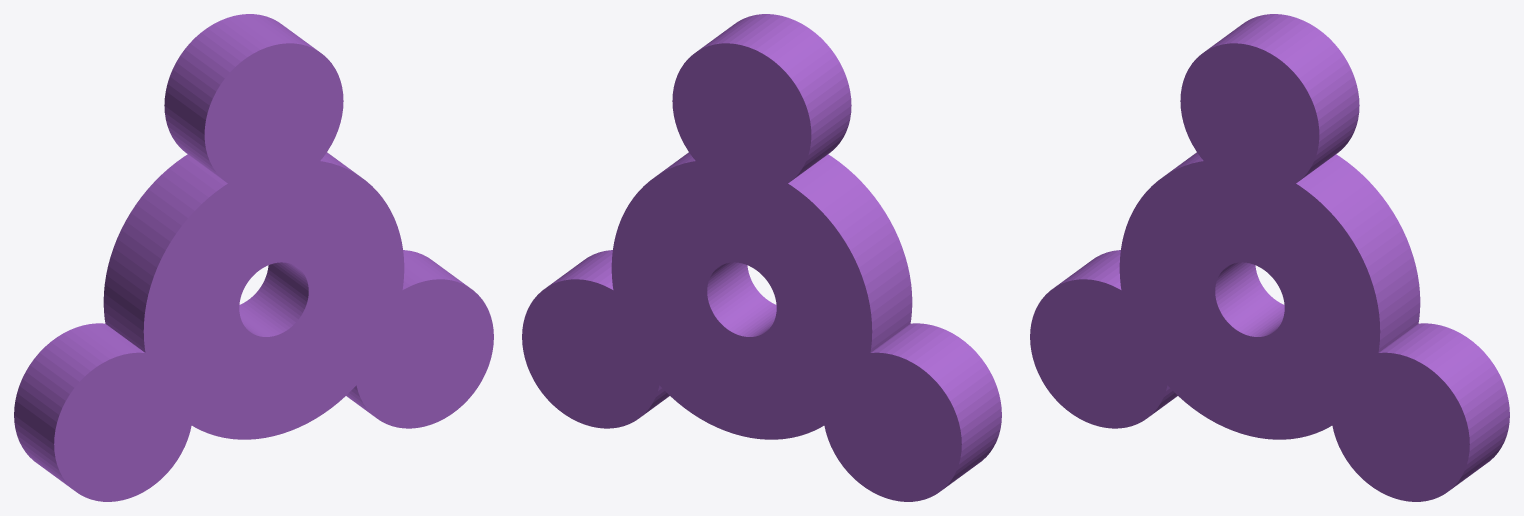
File: ep1-fidget-spinner.glb
The picture shows the model from 3 angles, left to right: view 1: azimuth 30°, elevation 25°; view 2: azimuth 150°, elevation 25°; view 3: azimuth 330°, elevation 25°; orthographic projection.
Parts seen in each view (by area): view 1: world; view 2: world; view 3: world.
Part boxes in pixels (left/top/right/bottom): world: left=14, top=14, right=493, bottom=501; world: left=522, top=14, right=1001, bottom=501; world: left=1030, top=14, right=1509, bottom=501.
Bounding box in the file's own units: 50.64 × 46 × 8.
